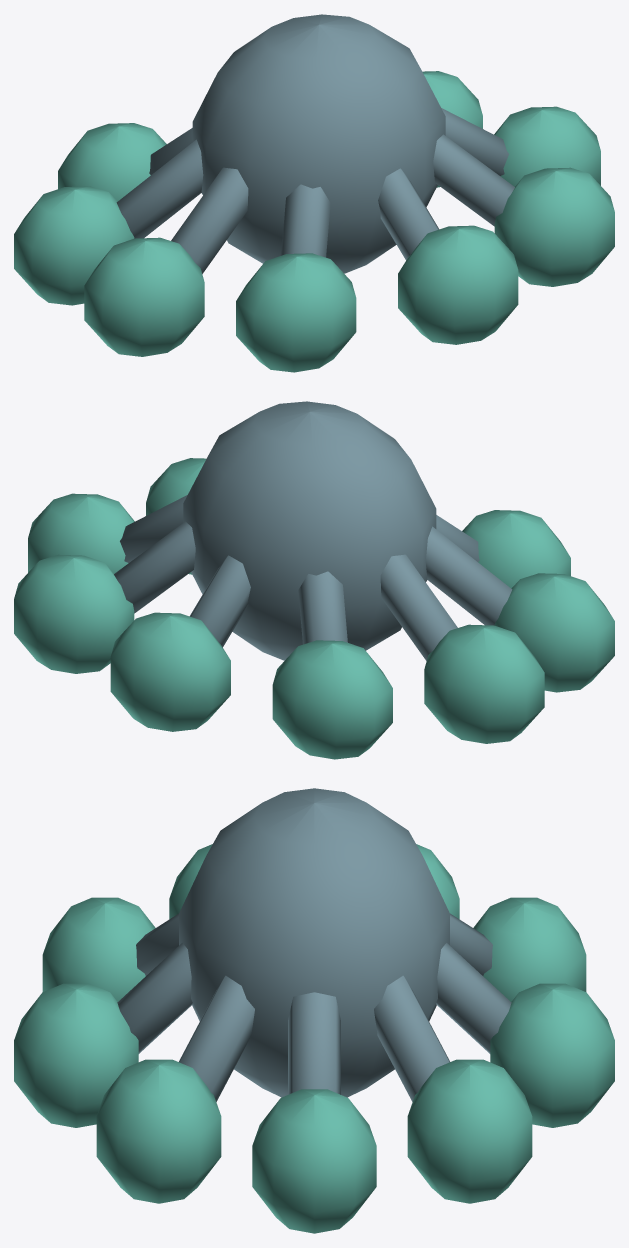
Rendered from scat_satin_root_tangle.glb.
3 renders of one model, top to bottom at view 1: azimuth 30°, elevation 25°; view 2: azimuth 150°, elevation 25°; view 3: azimuth 270°, elevation 25°, orthographic. The views are drawn at different scales.
Visible parts, largest first — view 1: SCAT_satin_root_tangle_root_center, SCAT_satin_root_tangle_root_lobe_6, SCAT_satin_root_tangle_root_lobe_7, SCAT_satin_root_tangle_root_lobe_5, SCAT_satin_root_tangle_root_lobe_8, SCAT_satin_root_tangle_root_lobe_4, SCAT_satin_root_tangle_root_lobe_0, SCAT_satin_root_tangle_root_lobe_3, SCAT_satin_root_tangle_root_4, SCAT_satin_root_tangle_root_5, SCAT_satin_root_tangle_root_8, SCAT_satin_root_tangle_root_7 (+4 smaller); view 2: SCAT_satin_root_tangle_root_center, SCAT_satin_root_tangle_root_lobe_3, SCAT_satin_root_tangle_root_lobe_2, SCAT_satin_root_tangle_root_lobe_4, SCAT_satin_root_tangle_root_lobe_1, SCAT_satin_root_tangle_root_lobe_5, SCAT_satin_root_tangle_root_lobe_0, SCAT_satin_root_tangle_root_lobe_6, SCAT_satin_root_tangle_root_5, SCAT_satin_root_tangle_root_4, SCAT_satin_root_tangle_root_1, SCAT_satin_root_tangle_root_2 (+4 smaller); view 3: SCAT_satin_root_tangle_root_center, SCAT_satin_root_tangle_root_lobe_1, SCAT_satin_root_tangle_root_lobe_8, SCAT_satin_root_tangle_root_lobe_0, SCAT_satin_root_tangle_root_lobe_2, SCAT_satin_root_tangle_root_lobe_7, SCAT_satin_root_tangle_root_lobe_3, SCAT_satin_root_tangle_root_lobe_6, SCAT_satin_root_tangle_root_0, SCAT_satin_root_tangle_root_1, SCAT_satin_root_tangle_root_8, SCAT_satin_root_tangle_root_2 (+5 smaller).
Part boxes in pixels (<box>): SCAT_satin_root_tangle_root_center: <box>192,14,445,273</box>; SCAT_satin_root_tangle_root_lobe_6: <box>236,253,356,372</box>; SCAT_satin_root_tangle_root_lobe_7: <box>398,225,518,344</box>; SCAT_satin_root_tangle_root_lobe_5: <box>84,237,204,356</box>; SCAT_satin_root_tangle_root_lobe_8: <box>494,167,614,286</box>; SCAT_satin_root_tangle_root_lobe_4: <box>14,186,134,305</box>; SCAT_satin_root_tangle_root_lobe_0: <box>494,106,600,186</box>; SCAT_satin_root_tangle_root_lobe_3: <box>58,123,166,201</box>; SCAT_satin_root_tangle_root_4: <box>116,139,203,238</box>; SCAT_satin_root_tangle_root_5: <box>171,167,248,273</box>; SCAT_satin_root_tangle_root_8: <box>433,134,514,226</box>; SCAT_satin_root_tangle_root_7: <box>378,168,439,260</box>; SCAT_satin_root_tangle_root_center: <box>183,401,436,660</box>; SCAT_satin_root_tangle_root_lobe_3: <box>272,640,392,759</box>; SCAT_satin_root_tangle_root_lobe_2: <box>110,612,230,731</box>; SCAT_satin_root_tangle_root_lobe_4: <box>424,624,544,743</box>; SCAT_satin_root_tangle_root_lobe_1: <box>14,554,134,673</box>; SCAT_satin_root_tangle_root_lobe_5: <box>494,573,614,692</box>; SCAT_satin_root_tangle_root_lobe_0: <box>28,493,134,573</box>; SCAT_satin_root_tangle_root_lobe_6: <box>462,510,570,588</box>; SCAT_satin_root_tangle_root_5: <box>425,526,512,625</box>; SCAT_satin_root_tangle_root_4: <box>380,554,457,660</box>; SCAT_satin_root_tangle_root_1: <box>114,521,195,613</box>; SCAT_satin_root_tangle_root_2: <box>189,555,250,647</box>; SCAT_satin_root_tangle_root_center: <box>179,788,449,1097</box>; SCAT_satin_root_tangle_root_lobe_1: <box>407,1059,532,1203</box>; SCAT_satin_root_tangle_root_lobe_8: <box>96,1059,221,1203</box>; SCAT_satin_root_tangle_root_lobe_0: <box>252,1089,376,1233</box>; SCAT_satin_root_tangle_root_lobe_2: <box>490,983,614,1127</box>; SCAT_satin_root_tangle_root_lobe_7: <box>14,983,138,1127</box>; SCAT_satin_root_tangle_root_lobe_3: <box>473,897,586,1001</box>; SCAT_satin_root_tangle_root_lobe_6: <box>42,897,155,1001</box>; SCAT_satin_root_tangle_root_0: <box>288,992,340,1094</box>; SCAT_satin_root_tangle_root_1: <box>374,975,449,1101</box>; SCAT_satin_root_tangle_root_8: <box>179,975,254,1101</box>; SCAT_satin_root_tangle_root_2: <box>436,943,511,1053</box>.
Size of the model in its own units: 1.21 by 0.54 by 0.9939.
